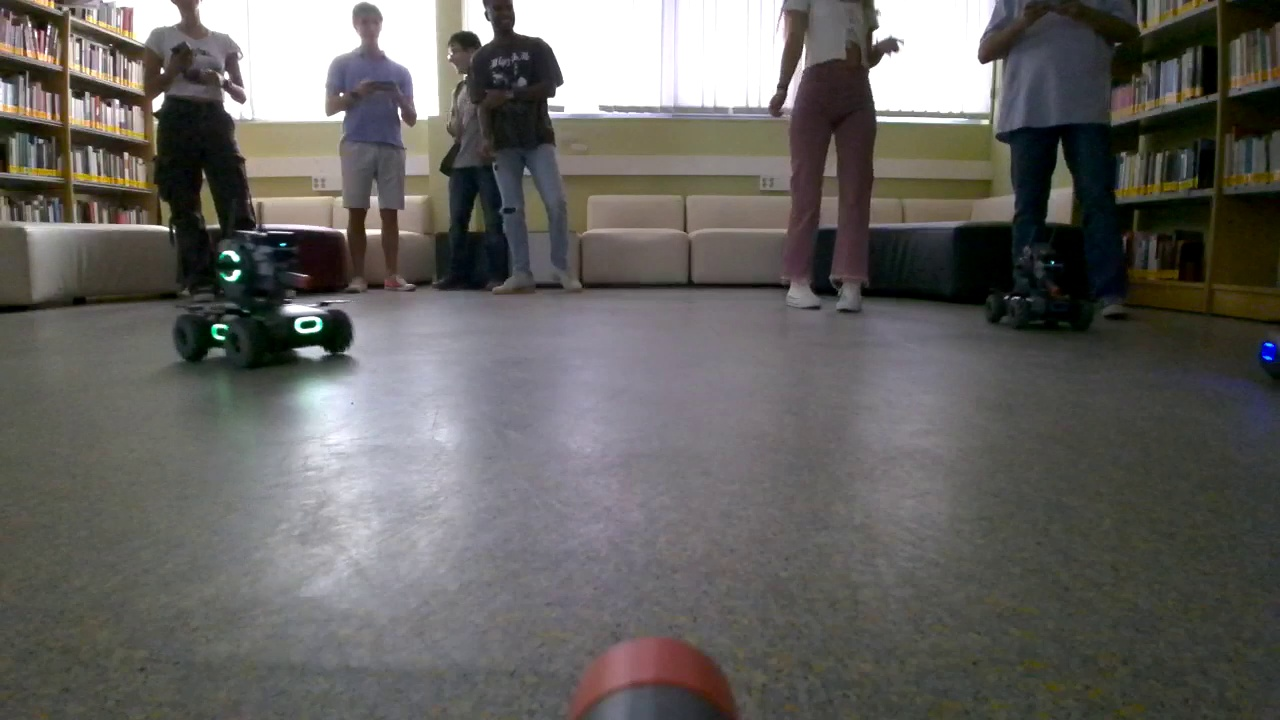robot: (172, 230, 356, 369)
